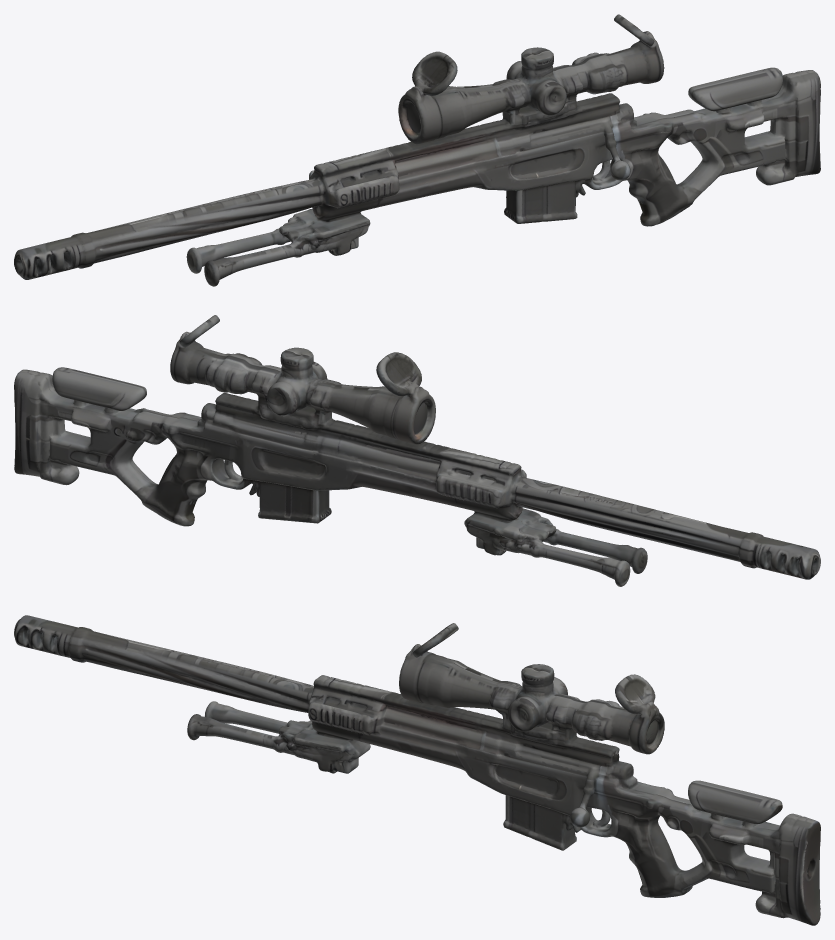
File: oracle.glb
The picture shows the model from 3 angles, top to bottom: view 1: azimuth 30°, elevation 25°; view 2: azimuth 150°, elevation 25°; view 3: azimuth 330°, elevation 25°; orthographic projection.
Parts seen in each view (by area): view 1: tripo_node_b872d64f-e15f-4bf8-975a-a5ce377ad69d; view 2: tripo_node_b872d64f-e15f-4bf8-975a-a5ce377ad69d; view 3: tripo_node_b872d64f-e15f-4bf8-975a-a5ce377ad69d.
Boxes of the visible parts, box(x1,y1,x2,y2) form: tripo_node_b872d64f-e15f-4bf8-975a-a5ce377ad69d: box(14, 14, 820, 286); tripo_node_b872d64f-e15f-4bf8-975a-a5ce377ad69d: box(14, 315, 820, 586); tripo_node_b872d64f-e15f-4bf8-975a-a5ce377ad69d: box(14, 615, 820, 925).
Size of the model in its own units: 1 by 0.2605 by 0.0954.
Materials: 1 (1 with a texture image).
